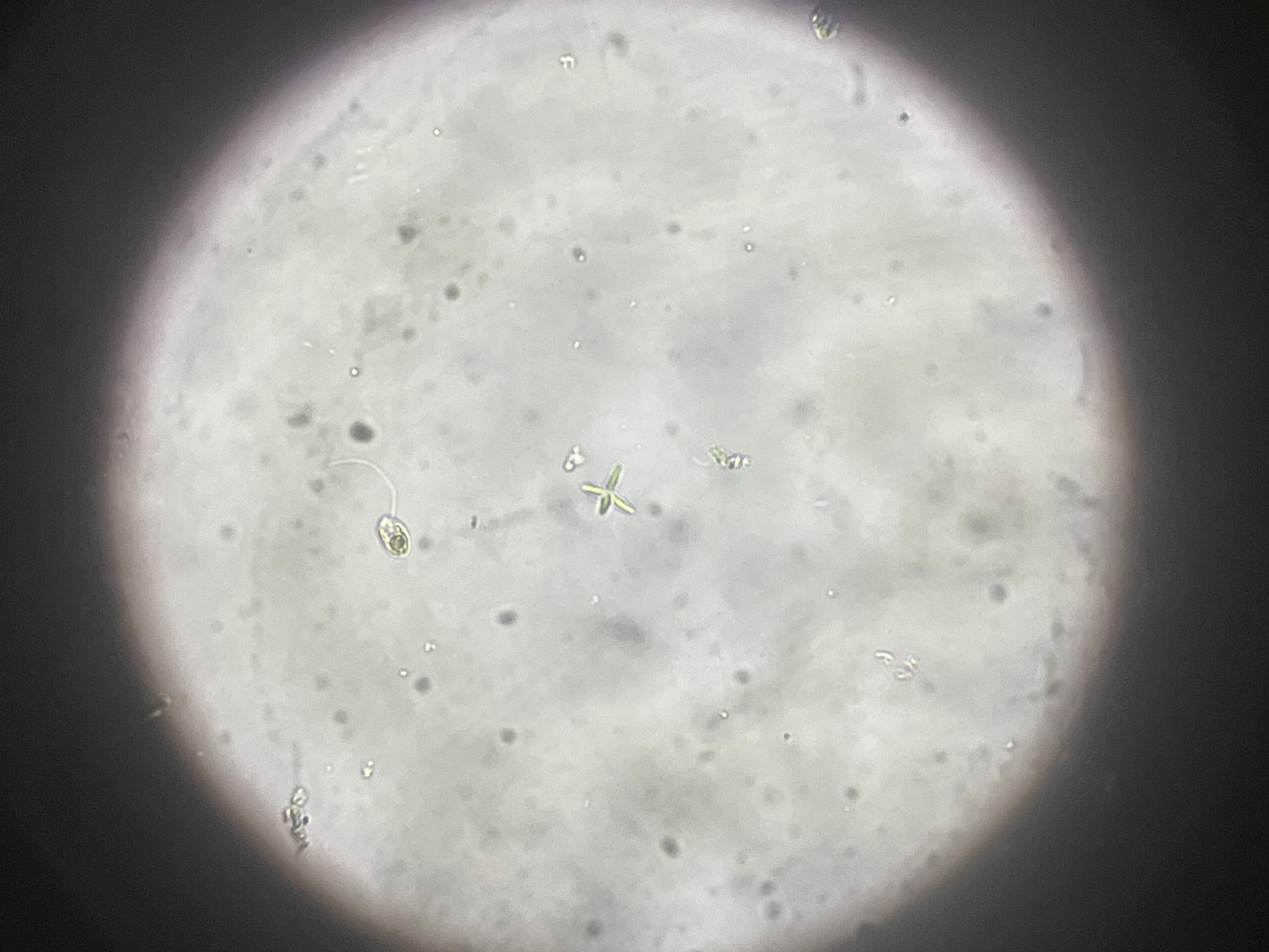Scenedesmus: (581, 465, 639, 527)
